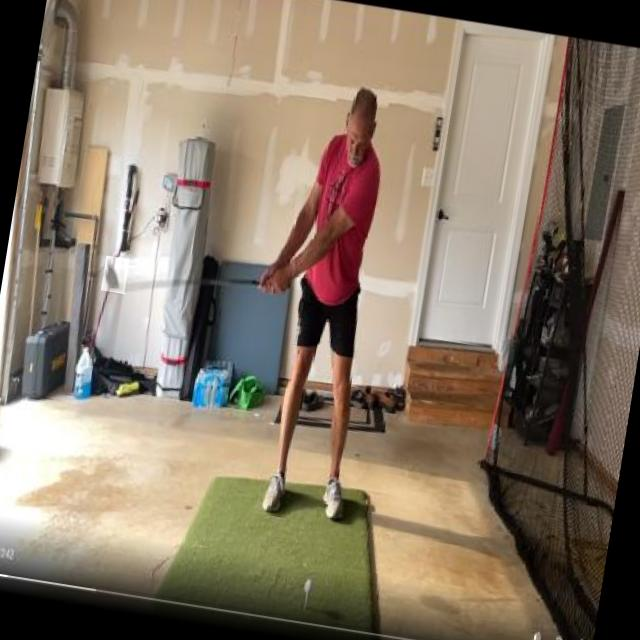club head: (102, 256, 130, 294)
